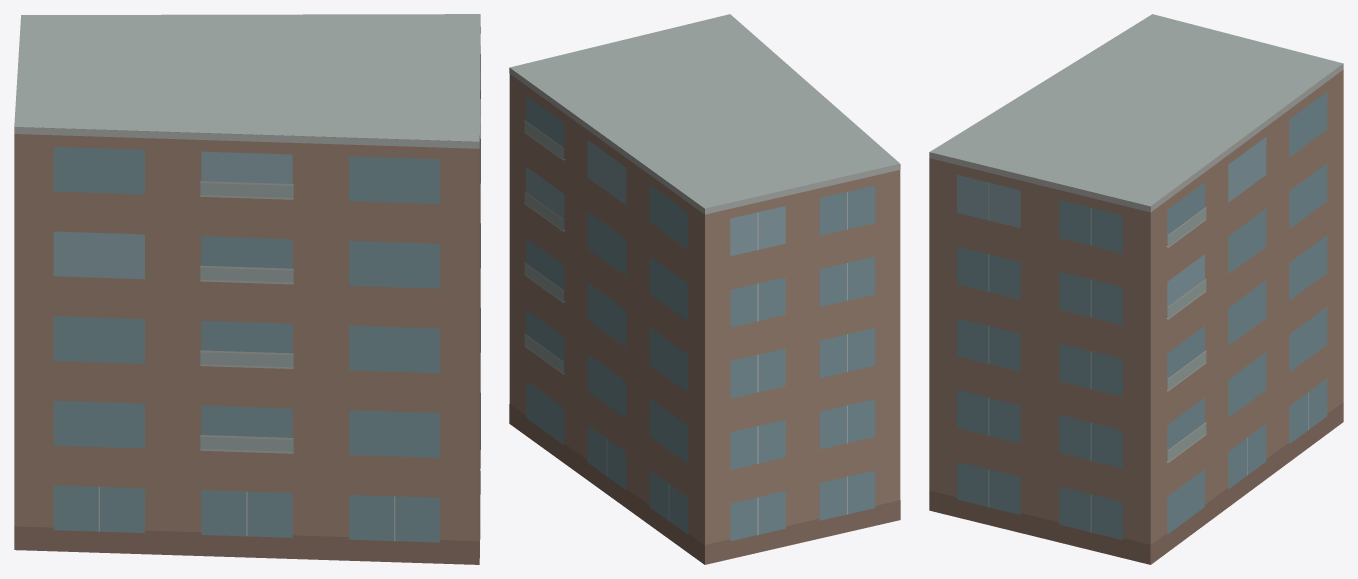
Rendered from survey-upis-32727572.glb.
The picture shows the model from 3 angles, left to right: view 1: azimuth 30°, elevation 25°; view 2: azimuth 150°, elevation 25°; view 3: azimuth 270°, elevation 25°; orthographic projection. The views are drawn at different scales.
Parts seen in each view (by area): view 1: survey-upis-32727572.tmp; view 2: survey-upis-32727572.tmp; view 3: survey-upis-32727572.tmp.
Boxes of the visible parts, left/top/right/bottom form: survey-upis-32727572.tmp: left=14, top=14, right=480, bottom=564; survey-upis-32727572.tmp: left=509, top=14, right=900, bottom=564; survey-upis-32727572.tmp: left=929, top=14, right=1343, bottom=564.
Size of the model in its own units: 16.7 by 14.5 by 15.19.
